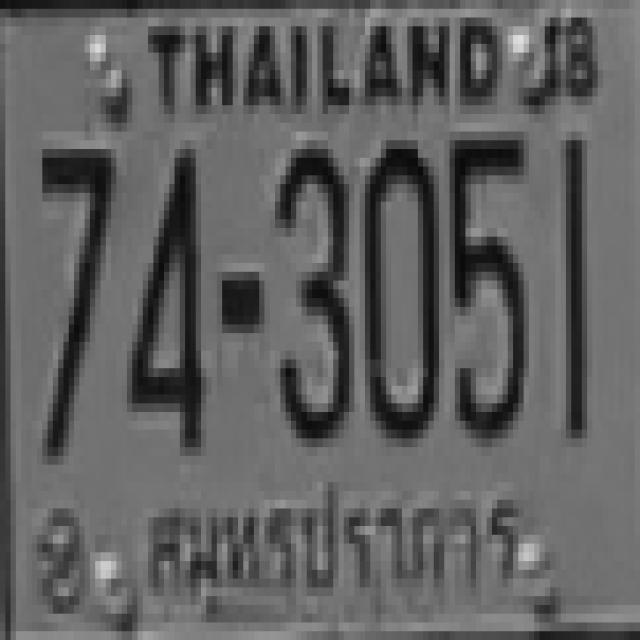0: (359, 136, 434, 434)
1: (560, 136, 582, 434)
3: (272, 140, 346, 438)
4: (122, 140, 201, 447)
5: (447, 127, 526, 434)
7: (37, 140, 111, 456), (37, 140, 111, 360)
SamutPrakan: (138, 484, 528, 605)
